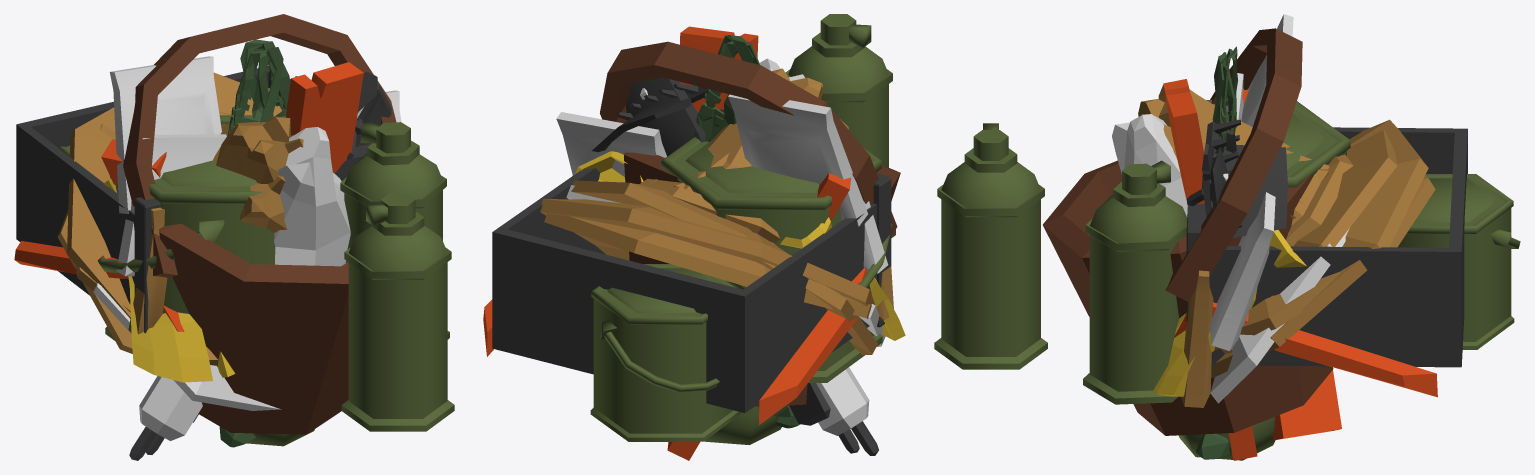
The model's file is tool-rack-items-transformed.glb.
3 views of the same model, side by side, from view 1: azimuth 30°, elevation 25°; view 2: azimuth 150°, elevation 25°; view 3: azimuth 270°, elevation 25° (orthographic).
Parts seen in each view (by area): view 1: paint_cans, bucket, drawer, seed_packets, scarecrow_hat, hat_03, wood_scraps, gloves, hat_02, hat_01, screwdriver_phillips, old_clothing_02 (+6 smaller); view 2: paint_cans, drawer, seed_packets, bucket, hat_03, hat_01, hat_02, sun_glasses, wood_scraps, spade, screwdriver_phillips, gloves (+8 smaller); view 3: paint_cans, bucket, drawer, hat_03, seed_packets, wood_scraps, scarecrow_hat, hat_02, sun_glasses, hat_01, gloves, hoe (+5 smaller).
Boxes of the visible parts, box(x1,y1,x2,y2) form: paint_cans: box(59, 115, 454, 431); bucket: box(123, 14, 396, 434); drawer: box(16, 66, 371, 333); seed_packets: box(109, 56, 401, 334); scarecrow_hat: box(93, 127, 350, 410); hat_03: box(67, 88, 303, 318); wood_scraps: box(101, 62, 363, 184); gloves: box(104, 178, 235, 382); hat_02: box(57, 72, 287, 353); hat_01: box(76, 116, 290, 365); screwdriver_phillips: box(139, 106, 364, 440); old_clothing_02: box(219, 47, 286, 447); paint_cans: box(590, 14, 895, 441); drawer: box(492, 168, 891, 412); seed_packets: box(556, 94, 893, 319); bucket: box(600, 41, 900, 406); hat_03: box(540, 84, 874, 306); hat_01: box(544, 68, 871, 318); hat_02: box(571, 119, 877, 354); sun_glasses: box(483, 268, 867, 424); wood_scraps: box(667, 26, 851, 460); spade: box(625, 77, 859, 453); screwdriver_phillips: box(640, 88, 869, 435); gloves: box(575, 151, 905, 340); paint_cans: box(934, 100, 1520, 404); bucket: box(1043, 28, 1333, 435); drawer: box(1186, 127, 1467, 367); hat_03: box(1138, 99, 1428, 378); seed_packets: box(1181, 14, 1293, 407); wood_scraps: box(1163, 79, 1341, 460); scarecrow_hat: box(1112, 114, 1349, 403); hat_02: box(1220, 130, 1397, 353); sun_glasses: box(1174, 302, 1437, 397); hat_01: box(1158, 85, 1435, 349); gloves: box(1153, 214, 1306, 396); hoe: box(1187, 144, 1287, 238).
Size of the model in its own units: 0.1008 by 0.115 by 0.1574.
